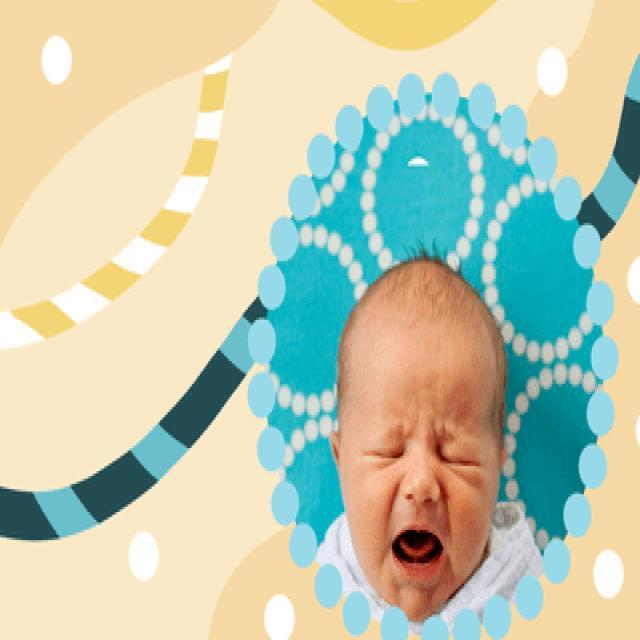non-dog: (318, 254, 548, 634)
